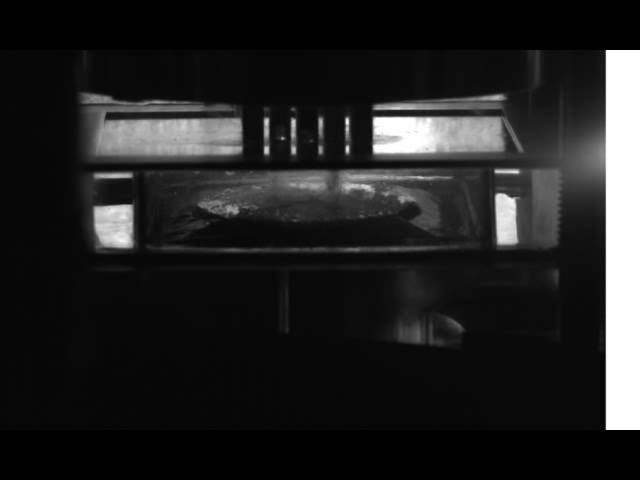Zona de teste: (194, 179, 419, 227)
